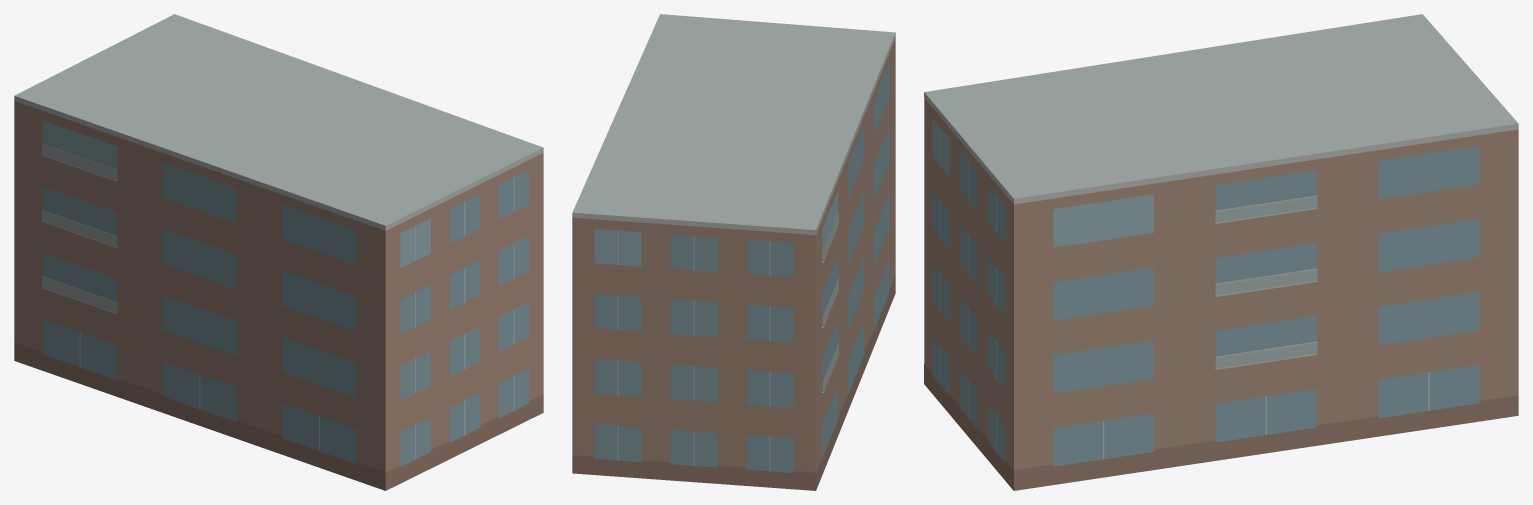
File: survey-upis-33038118.glb
The picture shows the model from 3 angles, left to right: view 1: azimuth 30°, elevation 25°; view 2: azimuth 150°, elevation 25°; view 3: azimuth 270°, elevation 25°; orthographic projection. The views are drawn at different scales.
Visible parts, largest first — view 1: survey-upis-33038118.tmp; view 2: survey-upis-33038118.tmp; view 3: survey-upis-33038118.tmp.
Part boxes in pixels (box(x1,y1,x2,y2)): survey-upis-33038118.tmp: box(14, 14, 543, 490); survey-upis-33038118.tmp: box(572, 14, 895, 490); survey-upis-33038118.tmp: box(924, 14, 1518, 490).
Size of the model in its own units: 17.2 by 12.66 by 23.37.
